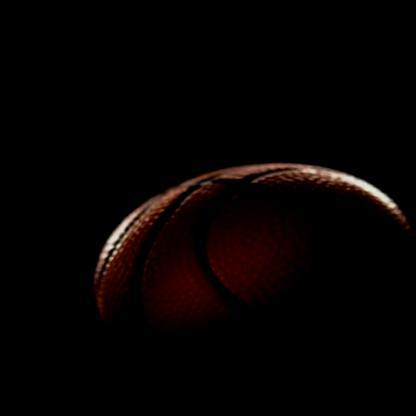basketball: (54, 134, 416, 406)
